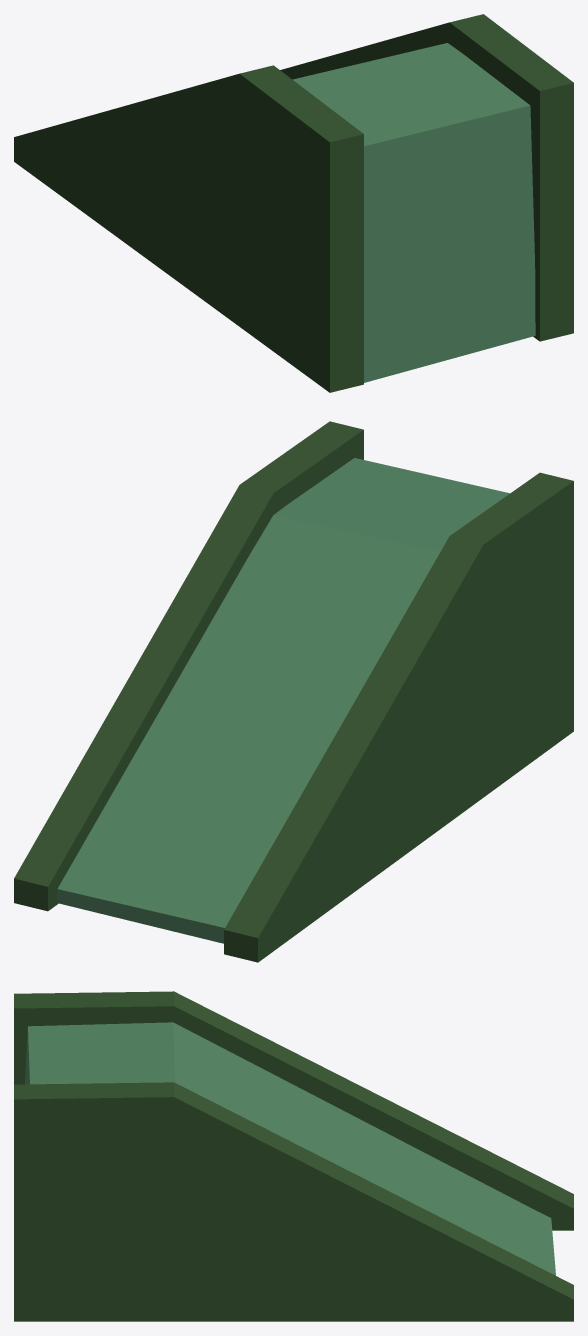
The model's file is Swamp_Structure_Ramp.fbx.
The picture shows the model from 3 angles, top to bottom: view 1: azimuth 30°, elevation 25°; view 2: azimuth 150°, elevation 25°; view 3: azimuth 270°, elevation 25°; orthographic projection. The views are drawn at different scales.
Parts seen in each view (by area): view 1: Swamp Structure Stairs Ramp; view 2: Swamp Structure Stairs Ramp; view 3: Swamp Structure Stairs Ramp.
Part boxes in pixels (x1,y1,x2,y2): Swamp Structure Stairs Ramp: (14,14,573,392); Swamp Structure Stairs Ramp: (14,421,573,962); Swamp Structure Stairs Ramp: (14,991,573,1321).
Bounding box in the file's own units: 444 × 443 × 994.
